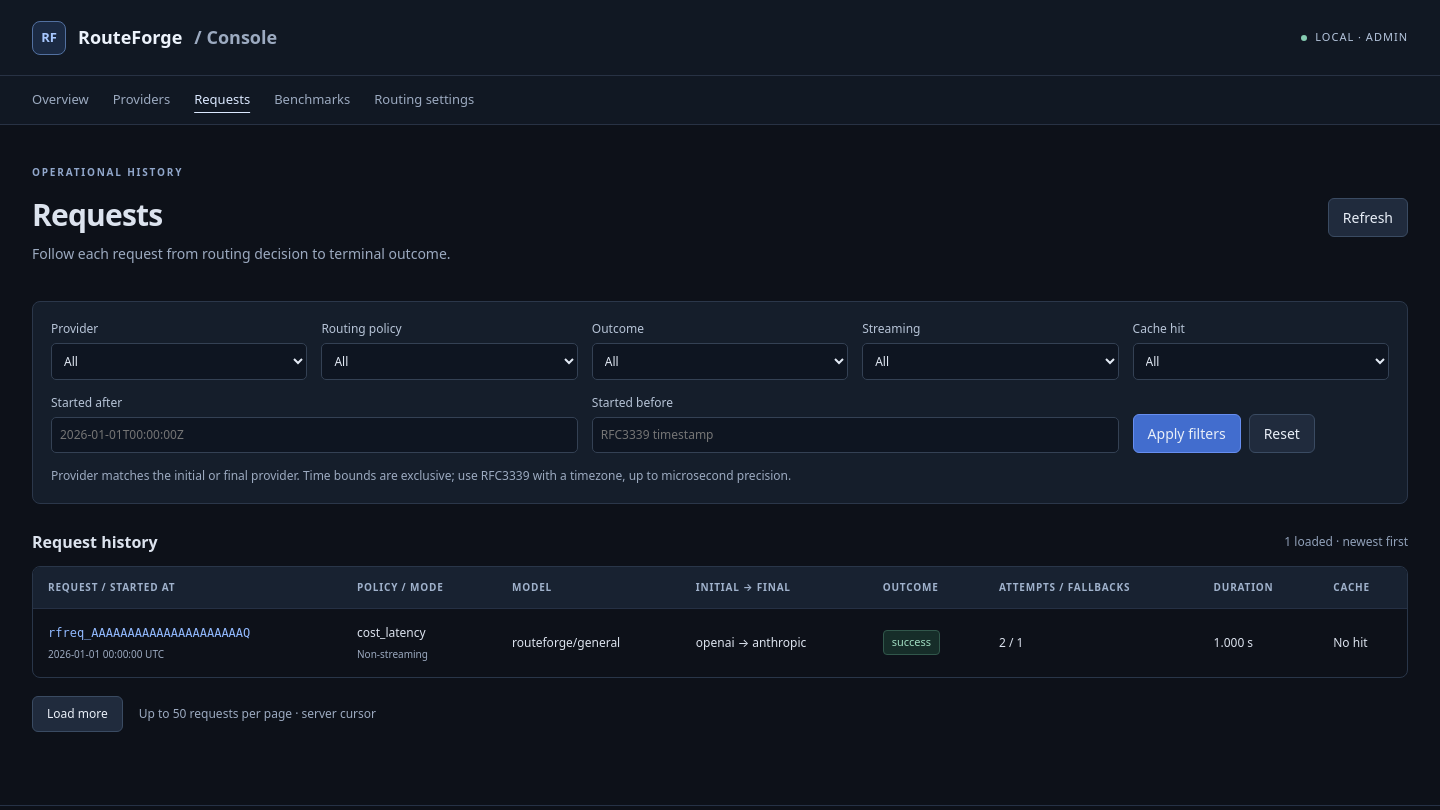
Test: history console › loads only the requested cursor page and retains earlier rows on retry
The image size is (1440, 810).
Expected: the link "rfreq_AAAAAAAAAAAAAAAAAAAAAQ" is shown, [48,626,250,640]
What coordinates should you click on to do the following:
click the button "Load more"
I would click on:
 (77, 714)
Its box is [32,696,123,732].
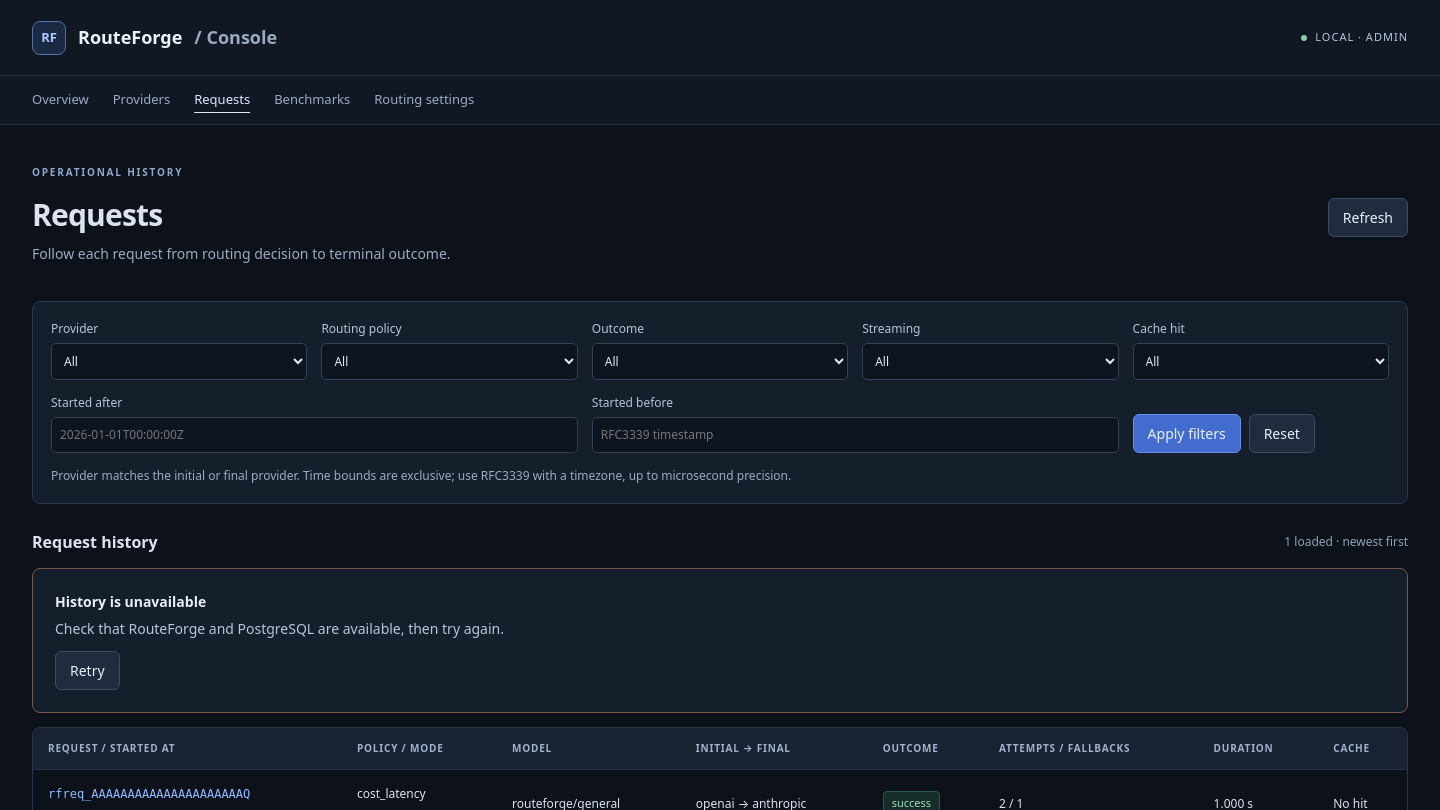
Expected: the link "rfreq_AAAAAAAAAAAAAAAAAAAAAQ" is shown, [48,786,250,800]
Now the message is shown, box [32,568,1408,712]
What coordinates should you click on to do the following:
click the button "Retry"
I would click on:
 (87, 670)
Its box is [55,650,120,690].
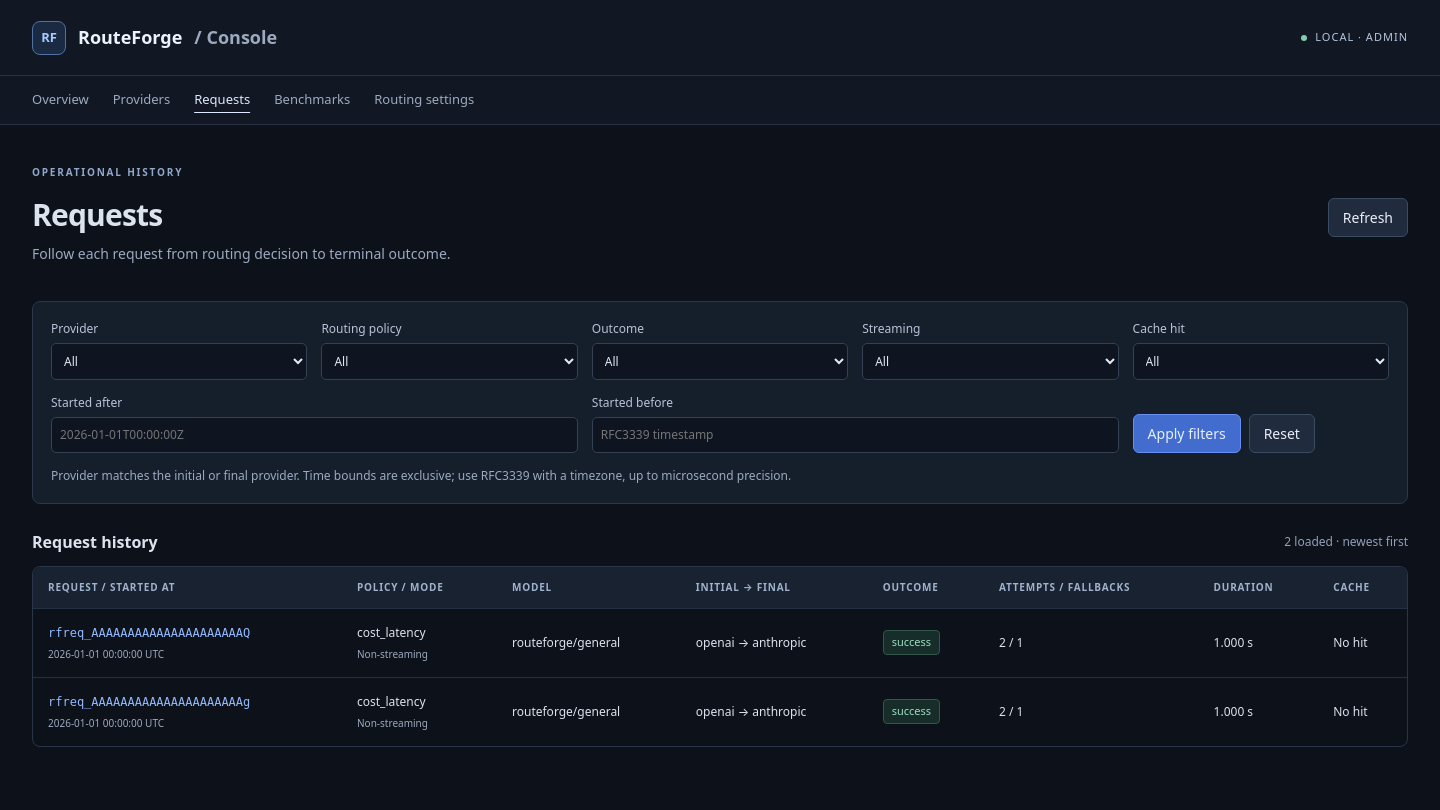
Expected: the button "Load more" is not shown
Now the link "rfreq_AAAAAAAAAAAAAAAAAAAAAg" is shown, box [48,694,250,708]
